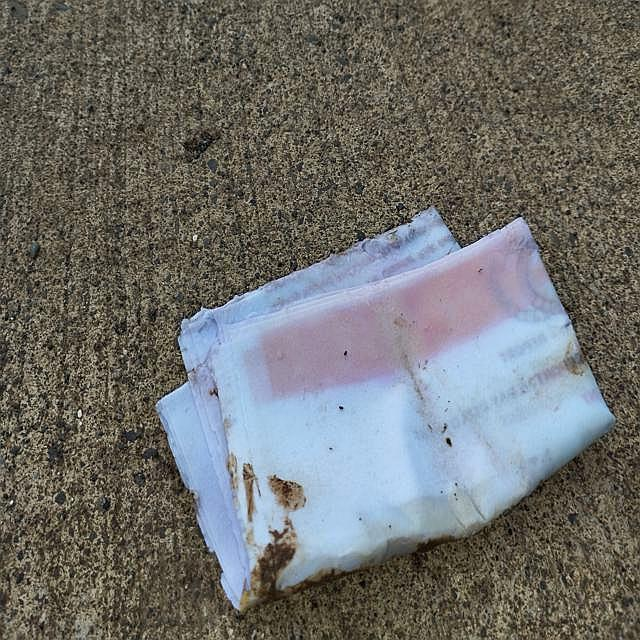Biodegradable: (118, 158, 638, 622)
